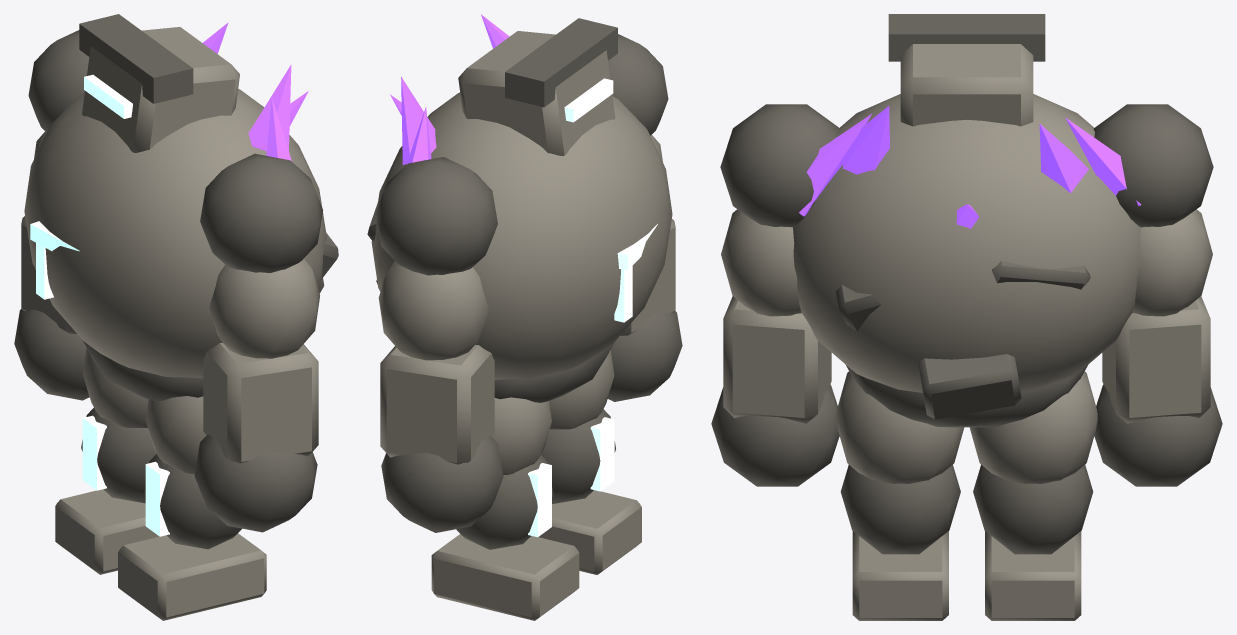
File: m_golem.glb
The picture shows the model from 3 angles, left to right: view 1: azimuth 30°, elevation 25°; view 2: azimuth 150°, elevation 25°; view 3: azimuth 270°, elevation 25°; orthographic projection. The views are drawn at different scales.
Parts seen in each view (by area): view 1: body, armL, legL, head, legR, armR; view 2: body, armR, legR, head, legL, armL; view 3: body, armR, armL, legL, legR, head.
Boxes of the visible parts, bbox=[...] form: body: bbox=[24, 22, 338, 401]; armL: bbox=[194, 153, 322, 532]; legL: bbox=[118, 396, 266, 620]; head: bbox=[79, 14, 239, 152]; legR: bbox=[55, 348, 159, 574]; armR: bbox=[14, 30, 89, 400]; body: bbox=[367, 14, 672, 402]; armR: bbox=[375, 157, 503, 532]; legR: bbox=[431, 397, 579, 620]; head: bbox=[458, 18, 617, 155]; legL: bbox=[538, 350, 641, 574]; armL: bbox=[607, 34, 682, 401]; body: bbox=[793, 94, 1141, 427]; armR: bbox=[1093, 104, 1222, 486]; armL: bbox=[711, 104, 840, 486]; legL: bbox=[836, 371, 964, 620]; legR: bbox=[969, 371, 1097, 620]; head: bbox=[888, 14, 1045, 126].
Bounding box in the file's own units: 0.5236 × 1.03 × 0.85.
